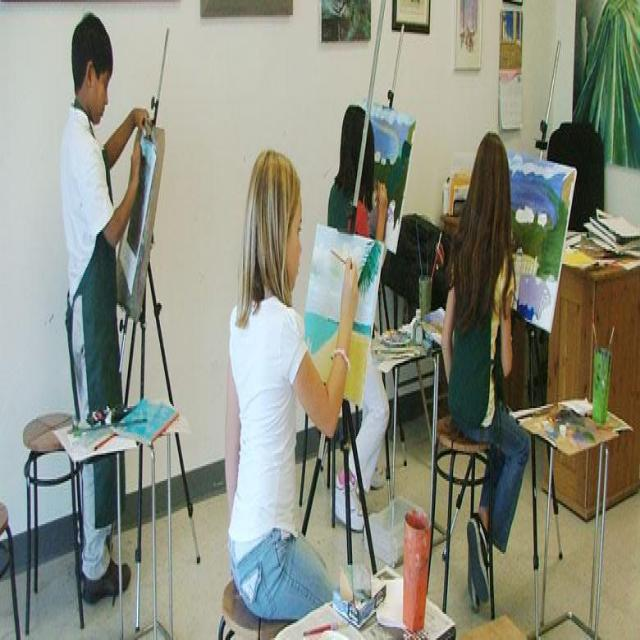cupboard: (543, 236, 639, 522)
curtains: (571, 0, 639, 168)
pots: (402, 507, 431, 631), (418, 273, 432, 320)
table: (53, 399, 180, 638), (511, 395, 634, 638), (274, 563, 456, 638)
windows: (319, 0, 371, 43)
